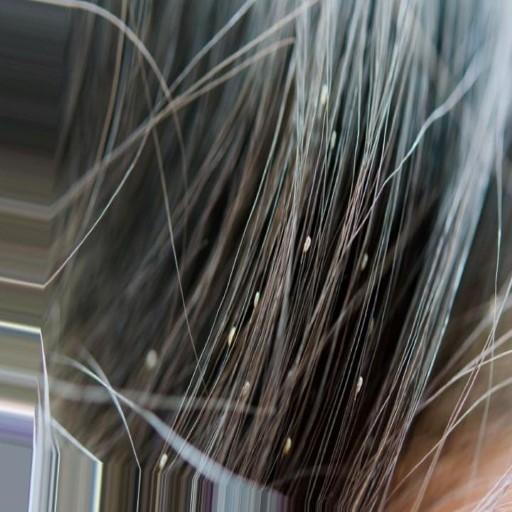Head_Lice: (316, 79, 335, 113), (233, 376, 255, 402), (352, 368, 367, 399), (226, 323, 242, 352), (145, 342, 158, 372), (278, 438, 298, 457), (359, 250, 374, 275), (298, 230, 314, 253), (158, 448, 173, 472), (252, 288, 263, 314), (366, 316, 377, 336)
